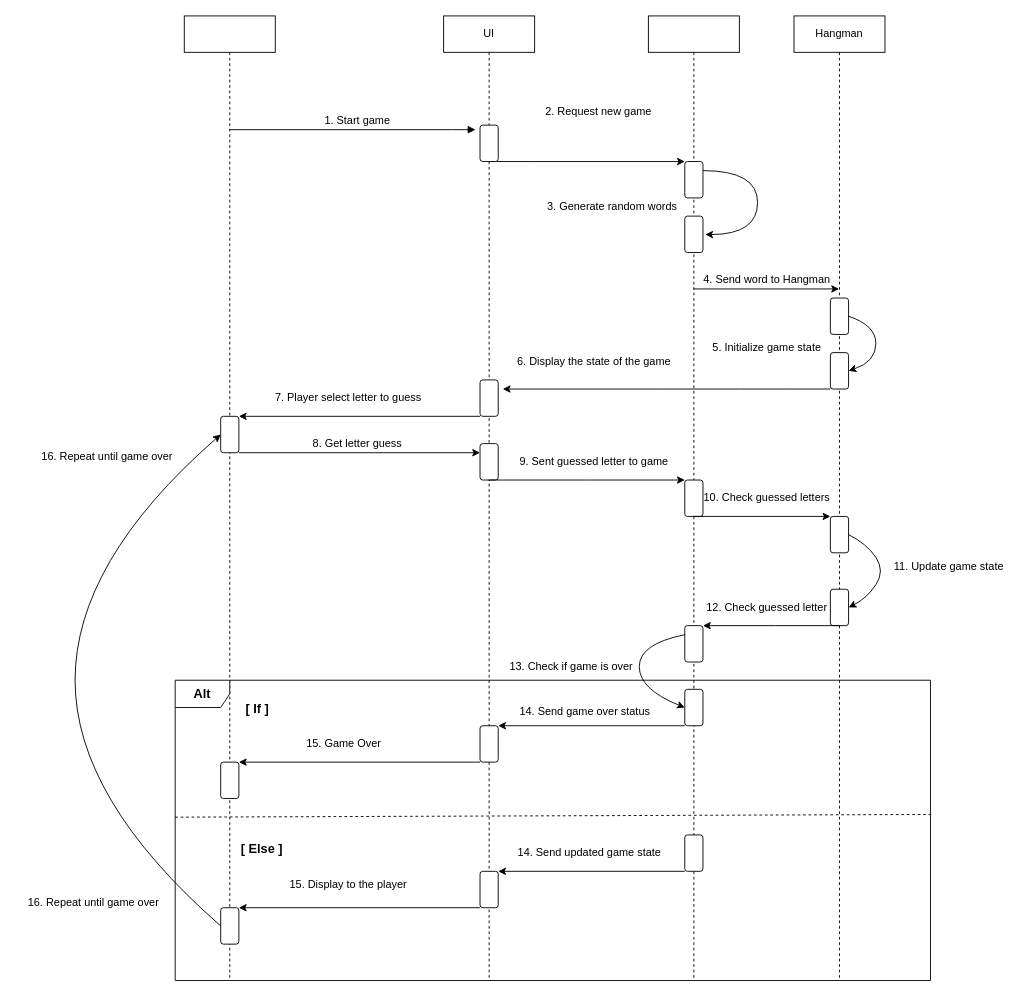
Image size: 1027x996. Some labels were removed from this diagram. The shapes that lost their labels are listed below. From the top down, each one's box as (x1, y1, x2, y2) in pixels, then its label:
(183, 15, 275, 981): Player
(647, 15, 739, 981): Game
